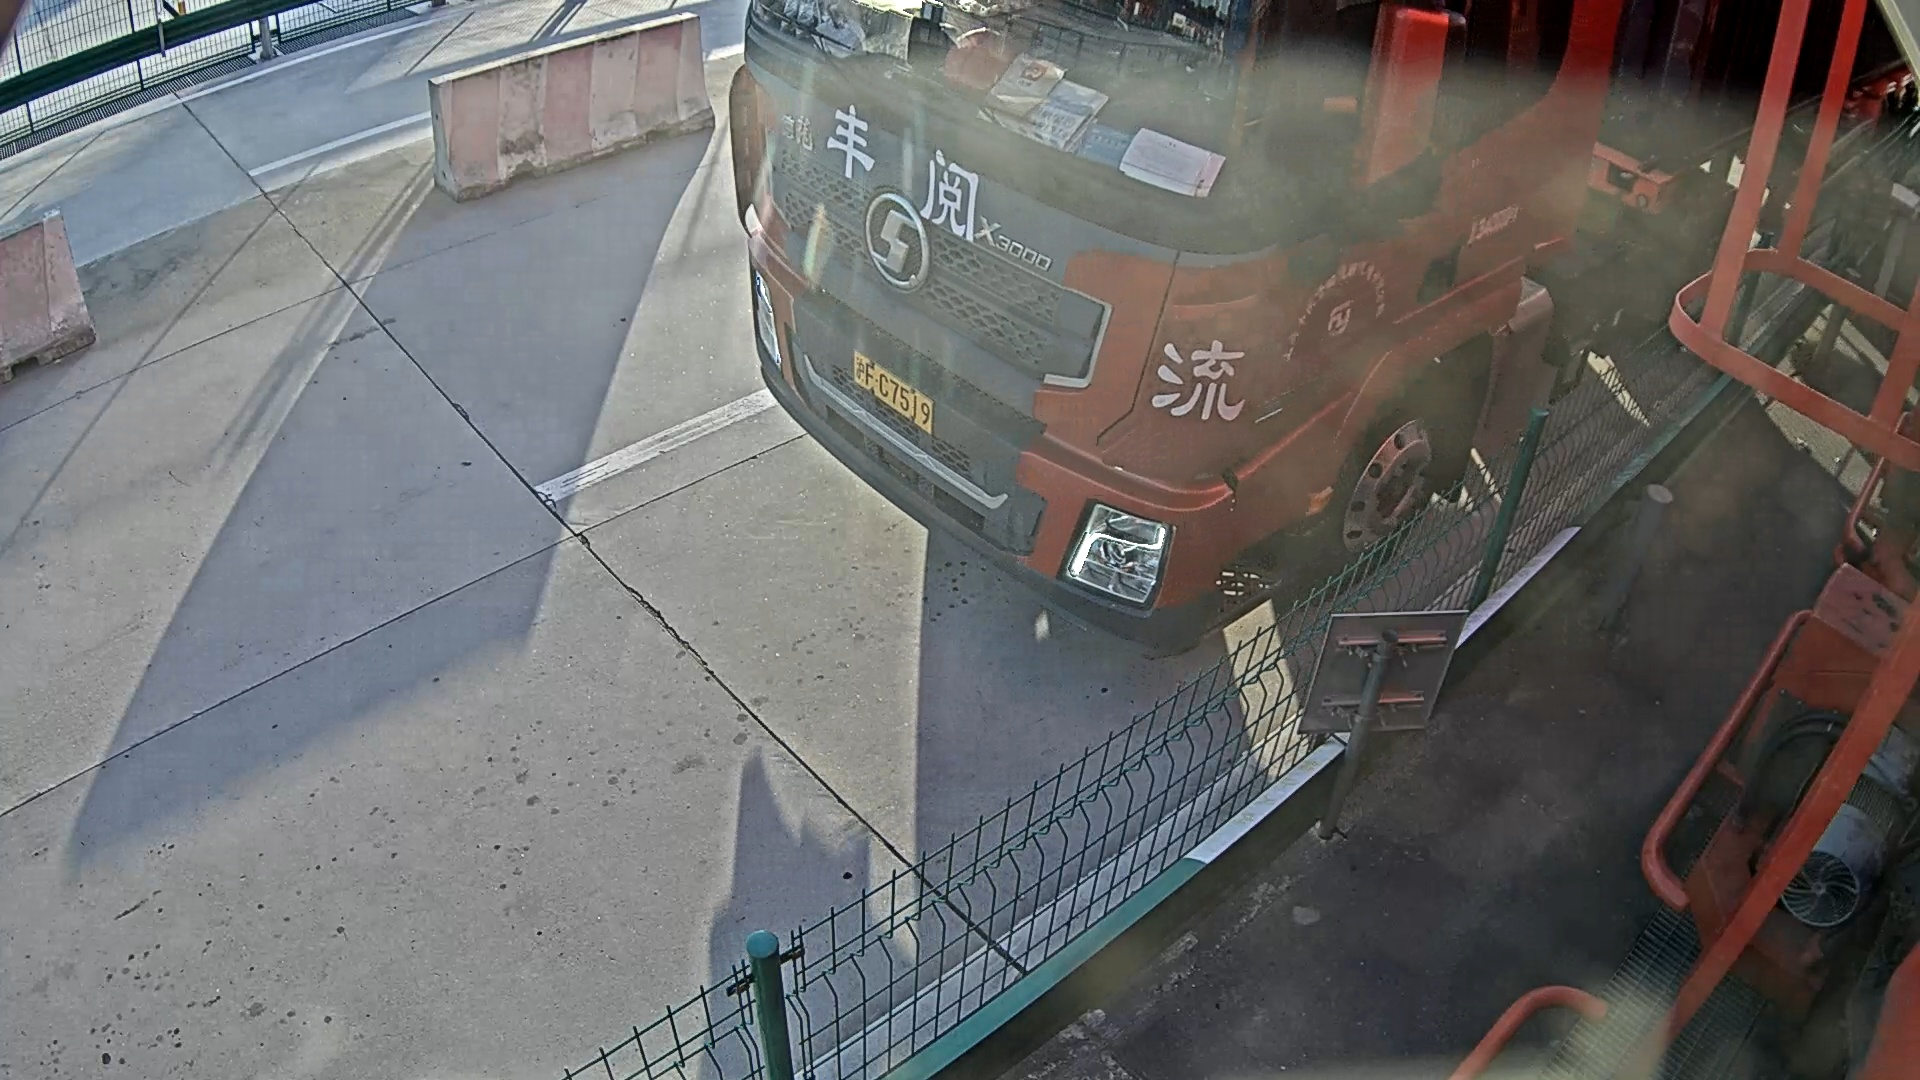head: (722, 18, 1456, 635)
plate: (852, 343, 952, 439)
